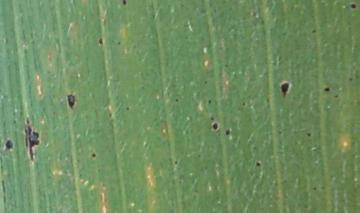tarspot: (23, 117, 41, 162), (278, 80, 291, 98), (66, 93, 76, 111), (4, 139, 14, 151), (322, 85, 331, 93), (97, 36, 104, 45), (206, 97, 213, 106), (305, 131, 312, 139), (90, 151, 97, 159), (209, 115, 216, 123), (347, 76, 354, 84), (349, 3, 357, 10), (310, 27, 317, 35), (212, 122, 218, 131), (254, 161, 261, 168), (240, 100, 247, 107), (332, 93, 339, 100), (202, 79, 209, 86), (225, 128, 231, 136), (173, 159, 179, 166), (311, 185, 317, 192), (124, 105, 130, 111), (116, 40, 122, 46), (121, 1, 127, 6), (174, 97, 179, 103)
